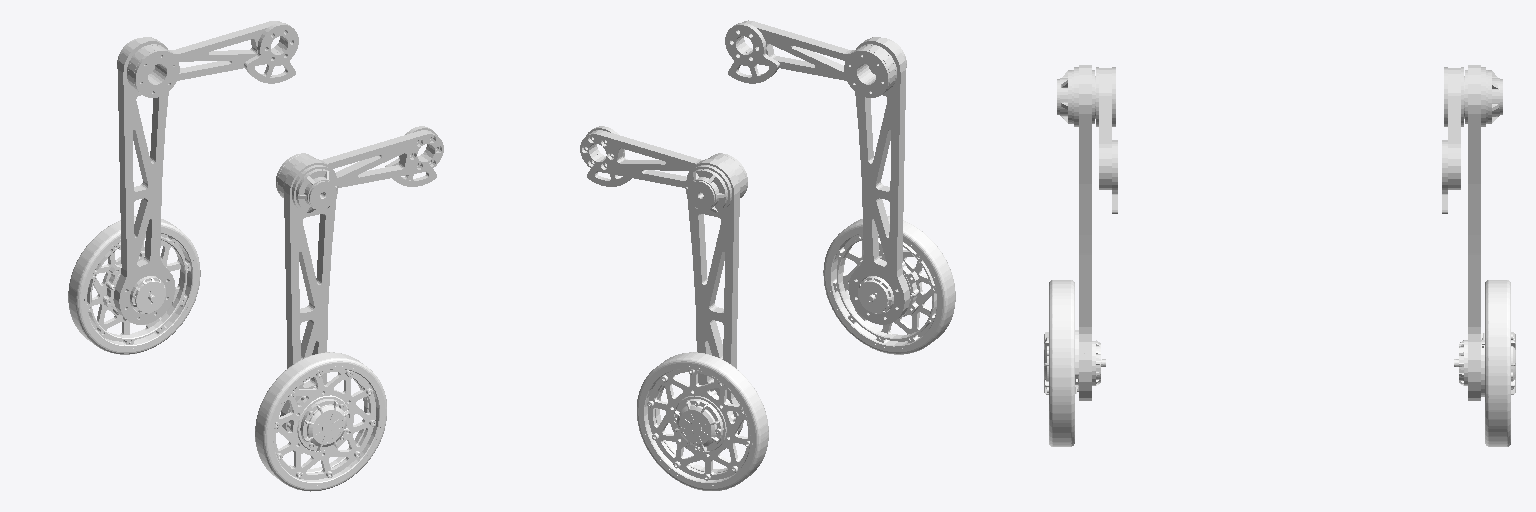
URDF robot description (yuelu):
<?xml version="1.0" encoding="utf-8"?>
<!-- This URDF was automatically created by SolidWorks to URDF Exporter! Originally created by [author] ([email redacted]) 
     Commit Version: 1.6.0-4-g7f85cfe  Build Version: 1.6.7995.38578
     For more information, please see http://wiki.ros.org/sw_urdf_exporter -->
<robot
  name="yuelu">
  <link
    name="base_link">
    <inertial>
      <origin
        xyz="-0.0061715 -3.7466E-05 -0.0029774"
        rpy="0 0 0" />
      <mass
        value="10.11422856" />
      <inertia
        ixx="0.17836415"
        ixy="0.00003085"
        ixz="0.00181870"
        iyy="0.13855256"
        iyz="0.00001796"
        izz="0.23286100" />
    </inertial>
    <visual>
      <origin
        xyz="0 0 0"
        rpy="0 0 0" />
      <geometry>
        <mesh
          filename="package://robot_model/meshes/base_link.STL" />
      </geometry>
      <material
        name="">
        <color
          rgba="0.89804 0.91765 0.92941 1" />
      </material>
    </visual>
    <collision>
      <origin
        xyz="0 0 0"
        rpy="0 0 0" />
      <geometry>
        <mesh
          filename="package://robot_model/meshes/base_link.STL" />
      </geometry>
    </collision>
  </link>
  <link
    name="lf0_Link">
    <inertial>
      <origin
        xyz="0.092242 -0.0019099 0.0073489"
        rpy="0 0 0" />
      <mass
        value="0.19936473" />
      <inertia
        ixx="0.00007443"
        ixy="-0.00000222"
        ixz="0.00019548"
        iyy="0.00257698"
        iyz="0.00000100"
        izz="0.00258918" />
    </inertial>
    <visual>
      <origin
        xyz="0 0 0"
        rpy="0 0 0" />
      <geometry>
        <mesh
          filename="package://robot_model/meshes/lf0_Link.STL" />
      </geometry>
      <material
        name="">
        <color
          rgba="0.92941 0.92941 0.92941 1" />
      </material>
    </visual>
    <collision>
      <origin
        xyz="0 0 0"
        rpy="0 0 0" />
      <geometry>
        <mesh
          filename="package://robot_model/meshes/lf0_Link.STL" />
      </geometry>
    </collision>
  </link>
  <joint
    name="lf0_Joint"
    type="revolute">
    <origin
      xyz="-0.08749 0.15432 -0.0073"
      rpy="1.5708 0 -3.1416" />
    <parent
      link="base_link" />
    <child
      link="lf0_Link" />
    <axis
      xyz="0 0 1" />
    <limit
      lower="-1.31"
      upper="0.58"
      effort="50"
      velocity="1000" />
  </joint>
  <link
    name="lf1_Link">
    <inertial>
      <origin
        xyz="0.12277 0.0022818 0.013173"
        rpy="0 0 0" />
      <mass
        value="0.22404930" />
      <inertia
        ixx="0.00011399"
        ixy="0.00006844"
        ixz="0.00033006"
        iyy="0.00571788"
        iyz="0.00000614"
        izz="0.00574010" />
    </inertial>
    <visual>
      <origin
        xyz="0 0 0"
        rpy="0 0 0" />
      <geometry>
        <mesh
          filename="package://robot_model/meshes/lf1_Link.STL" />
      </geometry>
      <material
        name="">
        <color
          rgba="0.92941 0.92941 0.92941 1" />
      </material>
    </visual>
    <collision>
      <origin
        xyz="0 0 0"
        rpy="0 0 0" />
      <geometry>
        <mesh
          filename="package://robot_model/meshes/lf1_Link.STL" />
      </geometry>
    </collision>
  </link>
  <joint
    name="lf1_Joint"
    type="revolute">
    <origin
      xyz="0.15 0 0.012"
      rpy="0 0 -1.5708" />
    <parent
      link="lf0_Link" />
    <child
      link="lf1_Link" />
    <axis
      xyz="0 0 1" />
    <limit
      lower="-1.4"
      upper="0.8"
      effort="50"
      velocity="1000" />
  </joint>
  <link
    name="l_wheel_Link">
    <inertial>
      <origin
        xyz="0.00010163 1.3317E-05 0.014296"
        rpy="0 0 0" />
      <mass
        value="0.31538156" />
      <inertia
        ixx="0.00055283"
        ixy="-0.00000048"
        ixz="0.00000010"
        iyy="0.00055221"
        iyz="0.00000002"
        izz="0.00092103" />
    </inertial>
    <visual>
      <origin
        xyz="0 0 0"
        rpy="0 0 0" />
      <geometry>
        <mesh
          filename="package://robot_model/meshes/l_wheel_Link.STL" />
      </geometry>
      <material
        name="">
        <color
          rgba="1 1 1 1" />
      </material>
    </visual>
    <collision>
      <origin
        xyz="0 0 0.016"
        rpy="0 0 0" />
      <geometry>
        <cylinder length="0.022" radius="0.078"/>
      </geometry>
    </collision>
  </link>
  <joint
    name="l_wheel_Joint"
    type="continuous">
    <origin
      xyz="0.27 0 0.018"
      rpy="0 0 0" />
    <parent
      link="lf1_Link" />
    <child
      link="l_wheel_Link" />
    <axis
      xyz="0 0 1" />
    <limit
      effort="5"
      velocity="1000" />
  </joint>
  <link
    name="rf0_Link">
    <inertial>
      <origin
        xyz="0.092242 0.0017673 0.0073431"
        rpy="0 0 0" />
      <mass
        value="0.19936473" />
      <inertia
        ixx="0.00007444"
        ixy="0.00000355"
        ixz="0.00019546"
        iyy="0.00257699"
        iyz="-0.00000120"
        izz="0.00258918" />
    </inertial>
    <visual>
      <origin
        xyz="0 0 0"
        rpy="0 0 0" />
      <geometry>
        <mesh
          filename="package://robot_model/meshes/rf0_Link.STL" />
      </geometry>
      <material
        name="">
        <color
          rgba="0.92941 0.92941 0.92941 1" />
      </material>
    </visual>
    <collision>
      <origin
        xyz="0 0 0"
        rpy="0 0 0" />
      <geometry>
        <mesh
          filename="package://robot_model/meshes/rf0_Link.STL" />
      </geometry>
    </collision>
  </link>
  <joint
    name="rf0_Joint"
    type="revolute">
    <origin
      xyz="-0.08749 -0.15508 -0.0073"
      rpy="-1.5708 0 -3.1416" />
    <parent
      link="base_link" />
    <child
      link="rf0_Link" />
    <axis
      xyz="0 0 1" />
    <limit
      lower="-0.58"
      upper="1.31"
      effort="50"
      velocity="1000" />
  </joint>
  <link
    name="rf1_Link">
    <inertial>
      <origin
        xyz="0.12277 -0.0022788 0.013173"
        rpy="0 0 0" />
      <mass
        value="0.22404930" />
      <inertia
        ixx="0.00011399"
        ixy="-0.00006844"
        ixz="0.00033008"
        iyy="0.00571788"
        iyz="-0.00000612"
        izz="0.00574010" />
    </inertial>
    <visual>
      <origin
        xyz="0 0 0"
        rpy="0 0 0" />
      <geometry>
        <mesh
          filename="package://robot_model/meshes/rf1_Link.STL" />
      </geometry>
      <material
        name="">
        <color
          rgba="0.92941 0.92941 0.92941 1" />
      </material>
    </visual>
    <collision>
      <origin
        xyz="0 0 0"
        rpy="0 0 0" />
      <geometry>
        <mesh
          filename="package://robot_model/meshes/rf1_Link.STL" />
      </geometry>
    </collision>
  </link>
  <joint
    name="rf1_Joint"
    type="revolute">
    <origin
      xyz="0.15 0 0.012"
      rpy="0 0 1.5708" />
    <parent
      link="rf0_Link" />
    <child
      link="rf1_Link" />
    <axis
      xyz="0 0 1" />
    <limit
      lower="-0.8"
      upper="1.4"
      effort="50"
      velocity="1000" />
  </joint>
  <link
    name="r_wheel_Link">
    <inertial>
      <origin
        xyz="-6.2448E-05 -8.1281E-05 0.014296"
        rpy="0 0 0" />
      <mass
        value="0.31538156" />
      <inertia
        ixx="0.00055265"
        ixy="0.00000004"
        ixz="-0.00000006"
        iyy="0.00055238"
        iyz="-0.00000008"
        izz="0.00092103" />
    </inertial>
    <visual>
      <origin
        xyz="0 0 0"
        rpy="0 0 0" />
      <geometry>
        <mesh
          filename="package://robot_model/meshes/r_wheel_Link.STL" />
      </geometry>
      <material
        name="">
        <color
          rgba="1 1 1 1" />
      </material>
    </visual>
    <collision>
      <origin
        xyz="0 0 0.016"
        rpy="0 0 0" />
      <geometry>
        <cylinder length="0.022" radius="0.078"/>
      </geometry>
    </collision>
  </link>
  <joint
    name="r_wheel_Joint"
    type="continuous">
    <origin
      xyz="0.27 0 0.018"
      rpy="0 0 0" />
    <parent
      link="rf1_Link" />
    <child
      link="r_wheel_Link" />
    <axis
      xyz="0 0 1" />
    <limit
      effort="5"
      velocity="1000" />
  </joint>
</robot>

--- Facts derived from the render (not from the file) ---
The picture shows the robot from 3 angles, left to right: view 1: azimuth 30°, elevation 25°; view 2: azimuth 150°, elevation 25°; view 3: azimuth 270°, elevation 25°; orthographic projection.
Model yuelu with 7 links and 6 joints (4 revolute, 2 continuous), rooted at base_link, posed every joint at zero.
Visible links, largest first — view 1: r_wheel_Link, l_wheel_Link, lf1_Link, rf1_Link, lf0_Link, rf0_Link; view 2: l_wheel_Link, r_wheel_Link, rf1_Link, lf1_Link, rf0_Link, lf0_Link; view 3: lf1_Link, rf1_Link, l_wheel_Link, r_wheel_Link, lf0_Link, rf0_Link.
Link boxes in pixels (bbox=[...]): r_wheel_Link: bbox=[255, 352, 386, 491]; l_wheel_Link: bbox=[68, 216, 200, 354]; lf1_Link: bbox=[114, 37, 175, 324]; rf1_Link: bbox=[280, 159, 338, 431]; lf0_Link: bbox=[127, 21, 298, 97]; rf0_Link: bbox=[276, 126, 443, 197]; l_wheel_Link: bbox=[637, 352, 768, 490]; r_wheel_Link: bbox=[823, 216, 955, 354]; rf1_Link: bbox=[848, 37, 909, 324]; lf1_Link: bbox=[685, 159, 743, 434]; rf0_Link: bbox=[725, 20, 896, 97]; lf0_Link: bbox=[580, 126, 747, 197]; lf1_Link: bbox=[1464, 65, 1502, 400]; rf1_Link: bbox=[1057, 65, 1095, 400]; l_wheel_Link: bbox=[1454, 280, 1515, 446]; r_wheel_Link: bbox=[1044, 280, 1105, 446]; lf0_Link: bbox=[1442, 67, 1463, 213]; rf0_Link: bbox=[1096, 67, 1117, 213].
Size in the robot's own frame: 0.251 by 0.4335 by 0.377 metres.
6 mesh visuals loaded from 7 distinct referenced files (6 binary STL); not drawn: 1 (reference not matched to a file when rendering).
